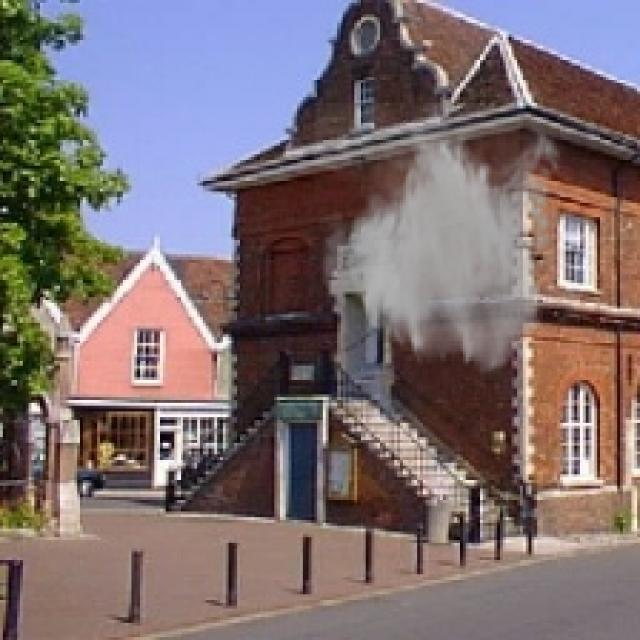smoke: (314, 103, 569, 377)
